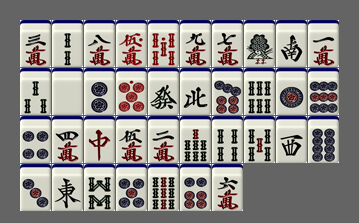0m: (116, 20, 147, 67)
0p: (116, 68, 147, 115)
0s: (148, 20, 179, 67)
1m: (308, 20, 339, 67)
1p: (276, 68, 307, 115)
1s: (244, 20, 275, 67)
1z: (52, 164, 83, 211)
2m: (148, 116, 179, 163)
2p: (84, 68, 115, 115)
2s: (52, 20, 83, 67)
2z: (276, 20, 307, 67)
3m: (20, 20, 51, 67)
3p: (20, 164, 51, 211)
3s: (20, 68, 51, 115)
3z: (276, 116, 307, 163)
4m: (52, 116, 83, 163)
4p: (20, 116, 51, 163)
4s: (212, 116, 243, 163)
4z: (180, 68, 211, 115)
5m: (116, 116, 147, 163)
5p: (116, 164, 147, 211)
5s: (244, 116, 275, 163)
5z: (52, 68, 83, 115)
6m: (212, 164, 243, 211)
6p: (180, 164, 211, 211)
6s: (244, 68, 275, 115)
6z: (148, 68, 179, 115)
7m: (212, 20, 243, 67)
7p: (212, 68, 243, 115)
7s: (180, 116, 211, 163)
7z: (84, 116, 115, 163)
8m: (84, 20, 115, 67)
8p: (308, 116, 339, 163)
8s: (84, 164, 115, 211)
9m: (180, 20, 211, 67)
9p: (308, 68, 339, 115)
9s: (148, 164, 179, 211)
